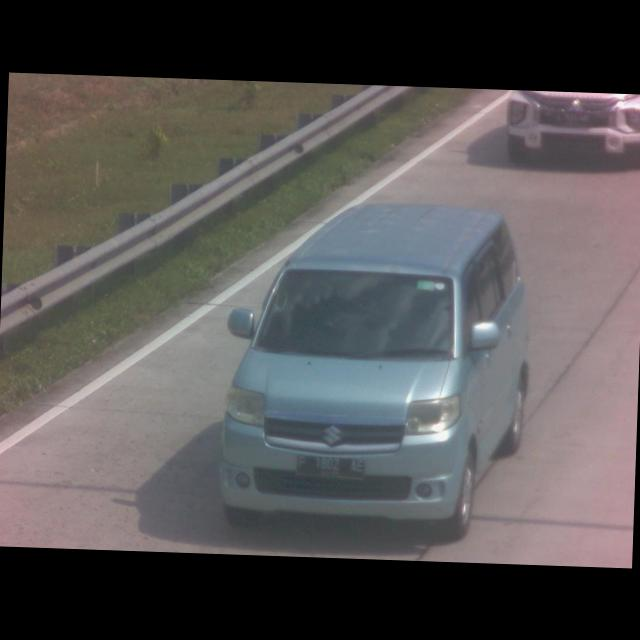plate: (294, 453, 366, 480)
